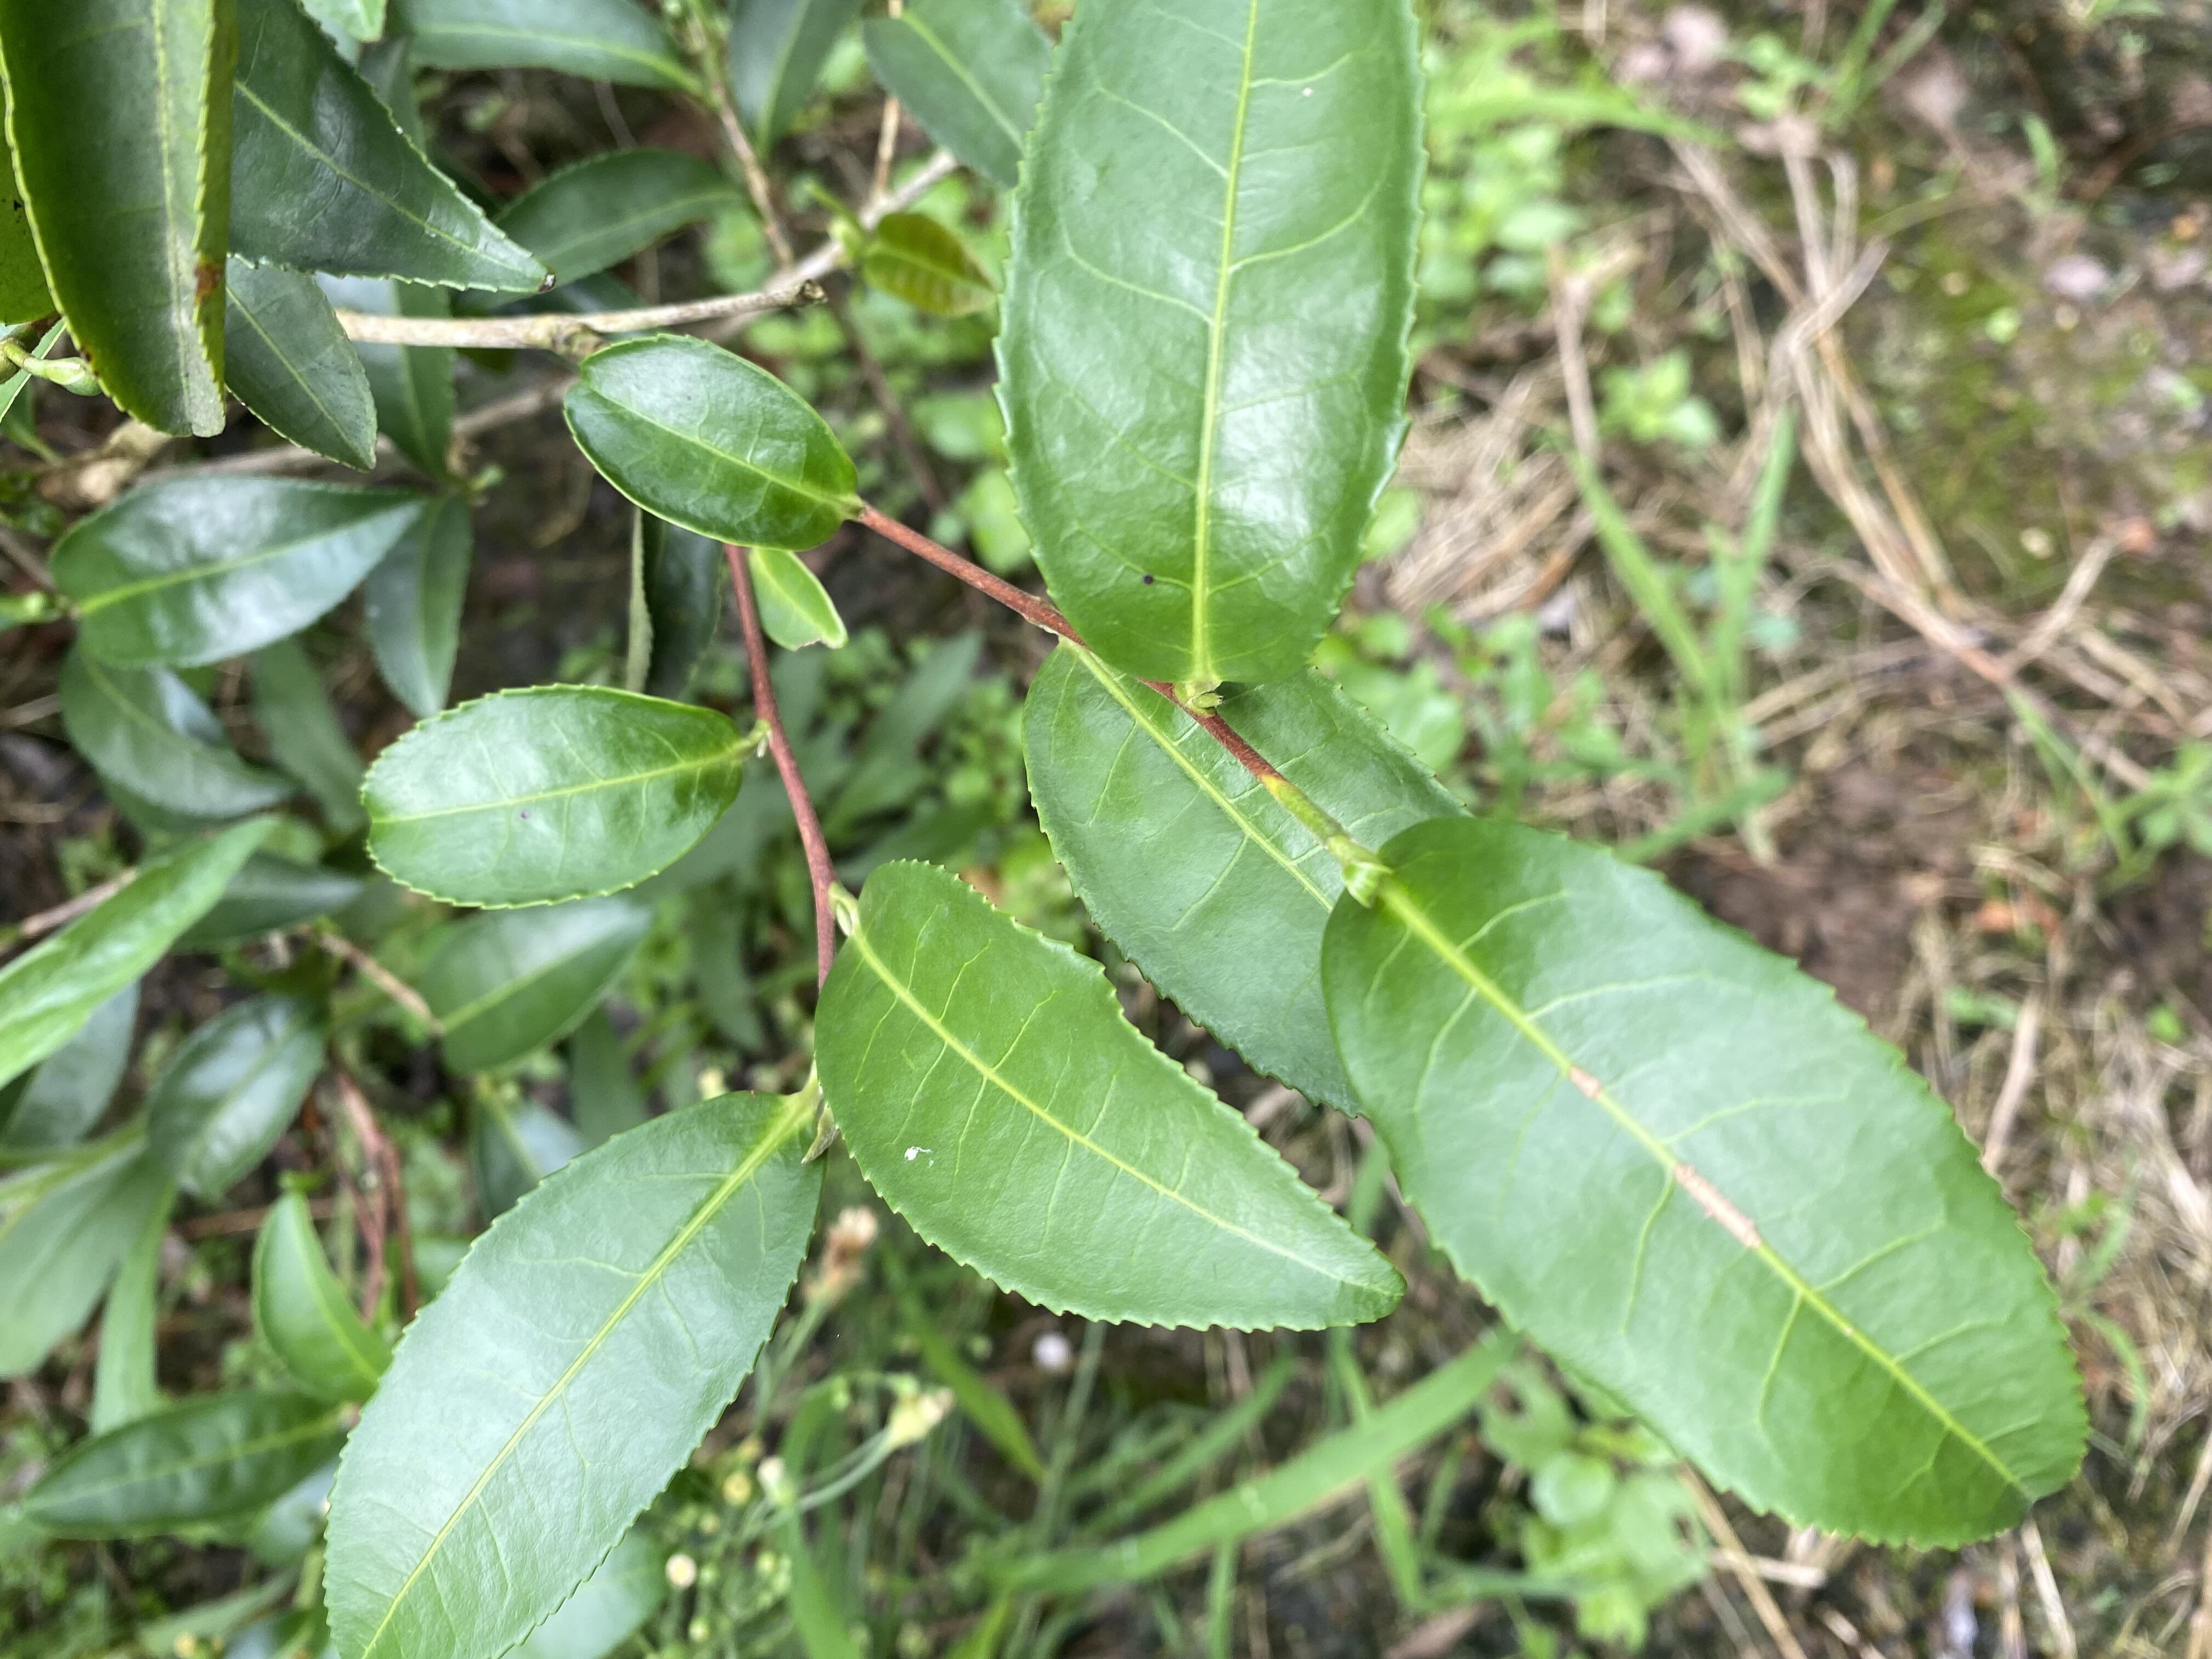healthy: (1324, 814, 2095, 1544), (989, 3, 1426, 685), (320, 1091, 827, 1656), (810, 863, 1407, 1331), (1014, 640, 1479, 1107), (355, 683, 745, 908), (54, 474, 432, 669), (564, 335, 857, 558)
